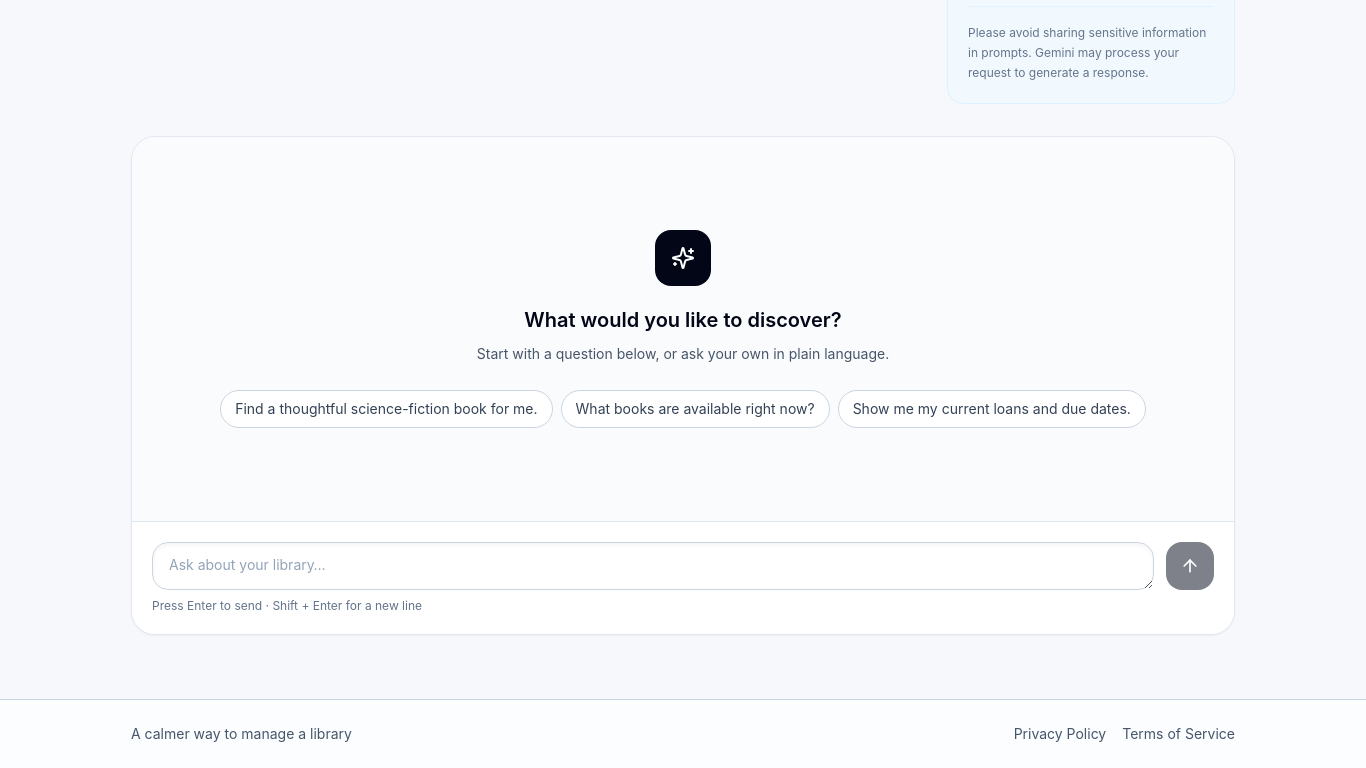
Test case: assistant page › navigates only to the internal path returned by the navigation tool
(page scrolled)
In the text box named "Ask the LibraryOS assistant": (653, 566) [152, 542, 1154, 590], type "Take me to this book"
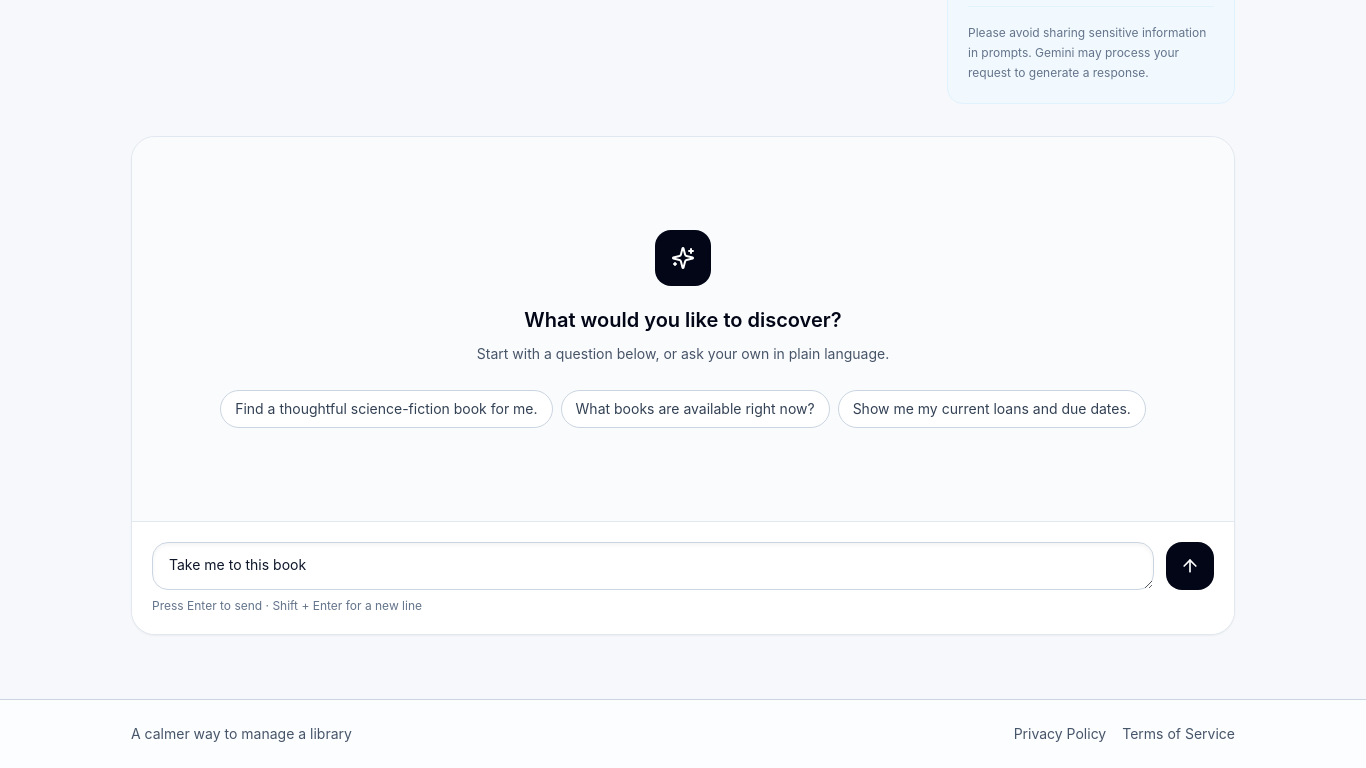
Click the button named "Send message": click(1190, 566) [1166, 542, 1214, 590]
(page scrolled)
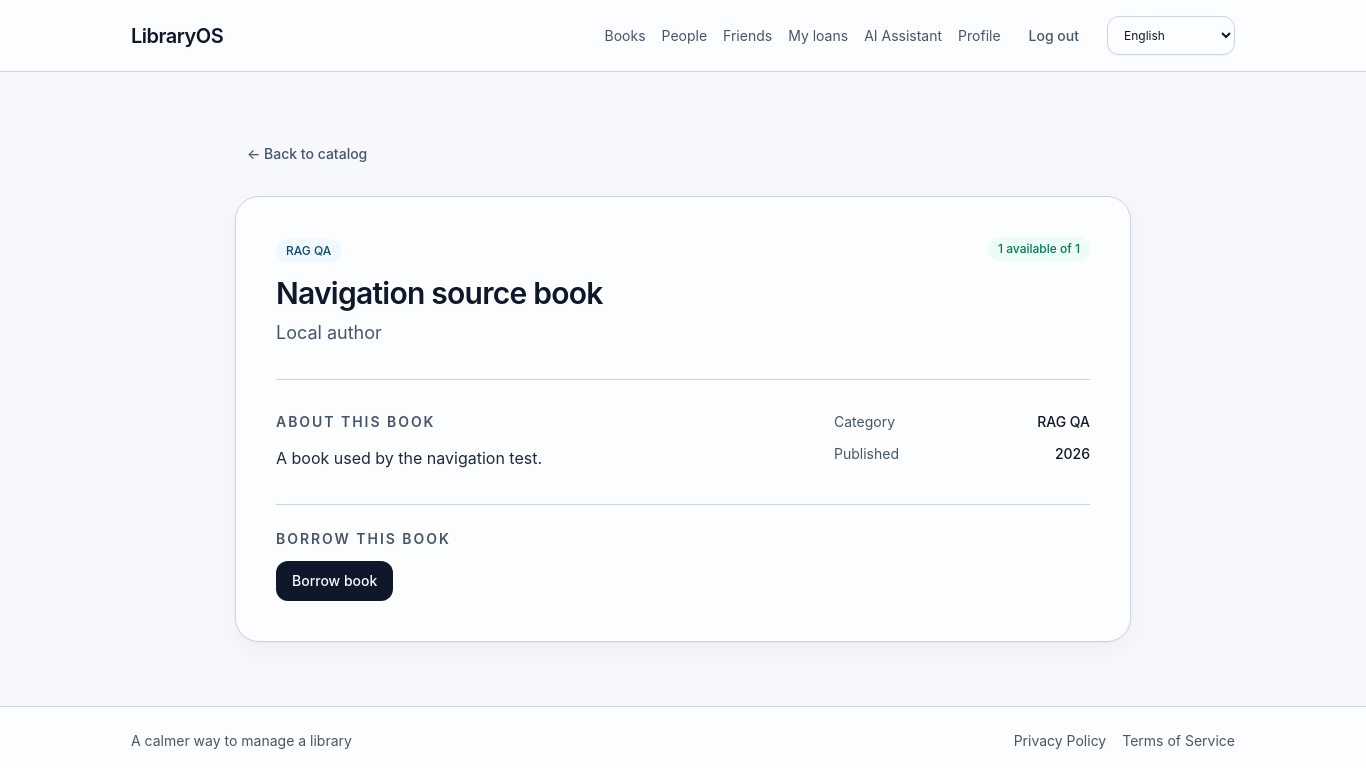
Expected: the heading "Navigation source book" is shown, [276, 275, 603, 311]
